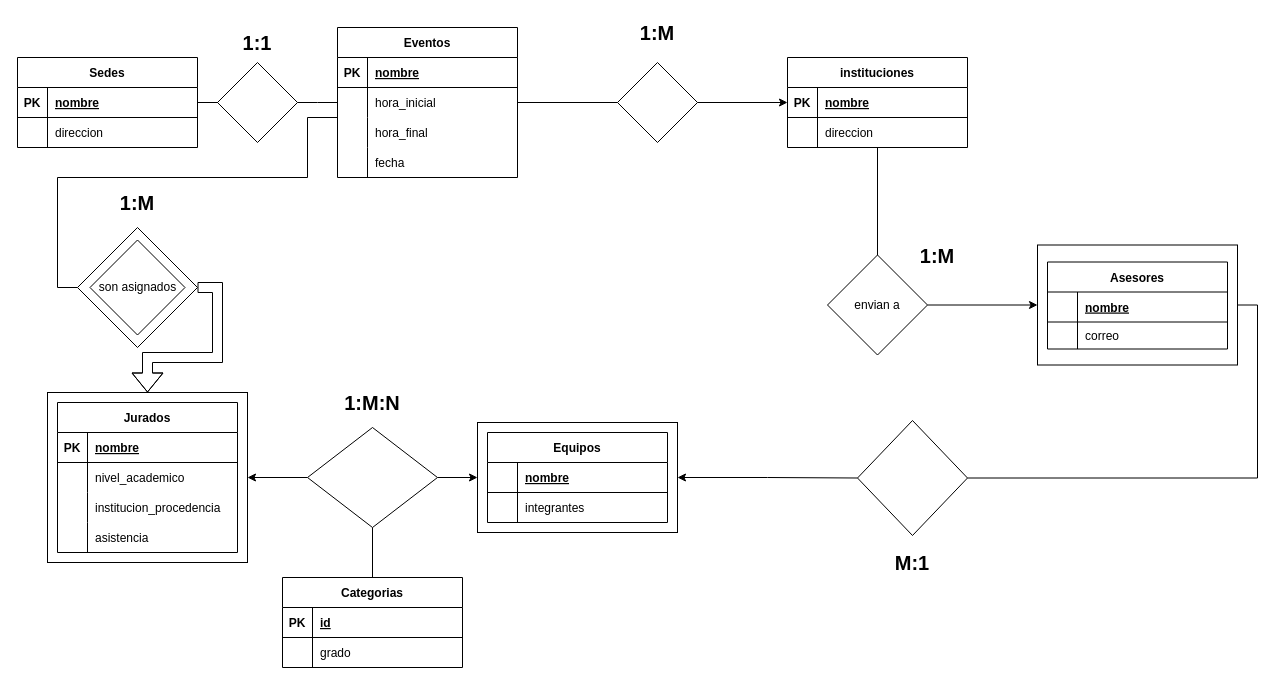
Image size: 1276x685. Some labels were removed from this diagram. The shapes that lost their labels are listed below. From the top down, each one's centre as x and y in pixels, then its label:
At pixel 257 102: "toma lugar".
At pixel 657 102: "participa".
At pixel 372 477: "participa en... califica a... califica en...".
At pixel 912 478: "son asesorados".
